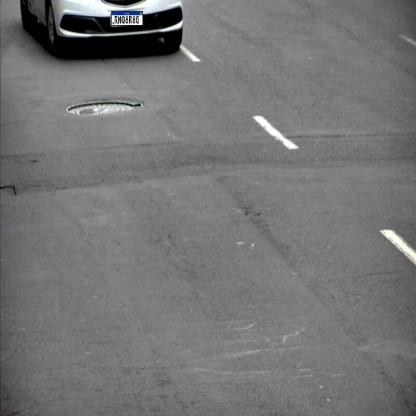PlacaM: (111, 11, 143, 26)
